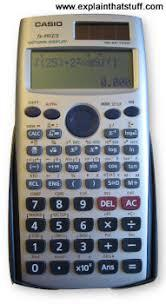Calculator: (6, 9, 166, 300)
